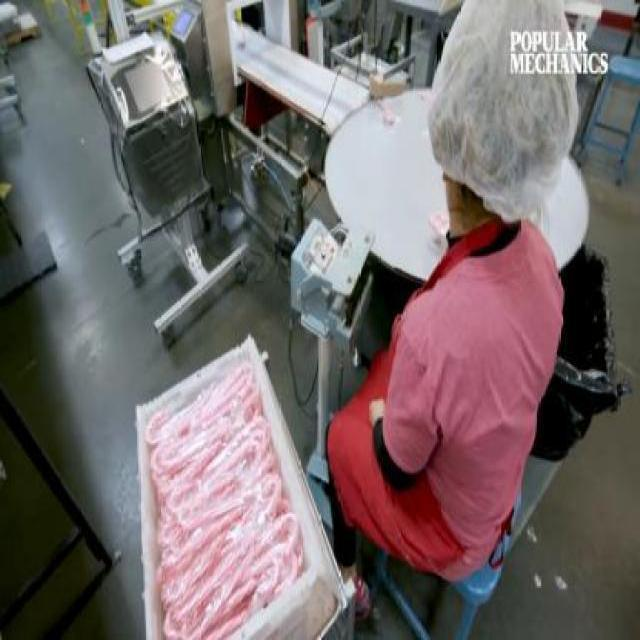bare_hand: (359, 386, 390, 441)
